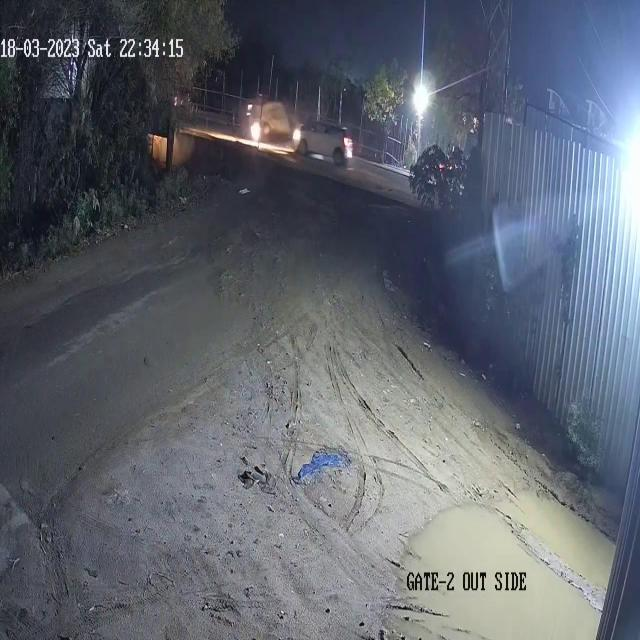accident: (242, 90, 355, 170)
